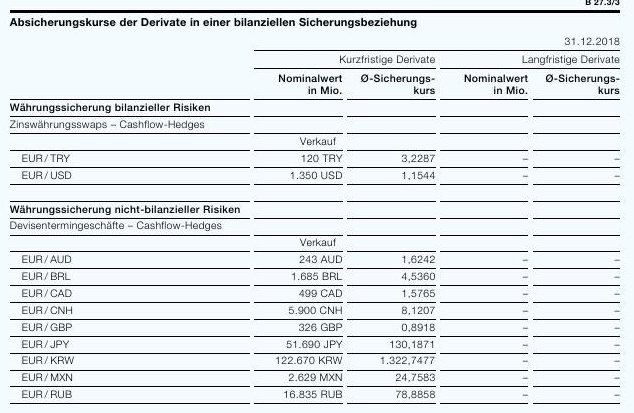table: (0, 0, 634, 413)
